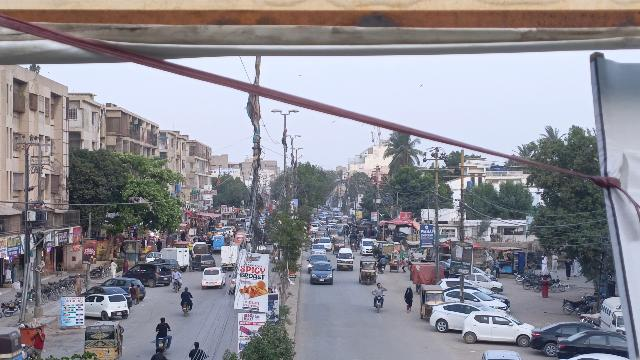Bike: (152, 336, 170, 354), (373, 294, 386, 313), (170, 279, 182, 296), (180, 302, 191, 319)
Car: (460, 309, 534, 347), (555, 329, 630, 359), (530, 321, 590, 356), (429, 302, 484, 334), (84, 294, 132, 322), (309, 260, 336, 286), (200, 265, 225, 290)
Person: (31, 326, 46, 358), (402, 283, 415, 315), (371, 281, 388, 295), (180, 287, 194, 304), (170, 267, 182, 281)
Rickshaw: (81, 320, 127, 360), (418, 283, 445, 322), (358, 256, 378, 286)
Truck: (159, 245, 191, 270), (219, 244, 240, 268)
Van: (334, 248, 355, 273)
